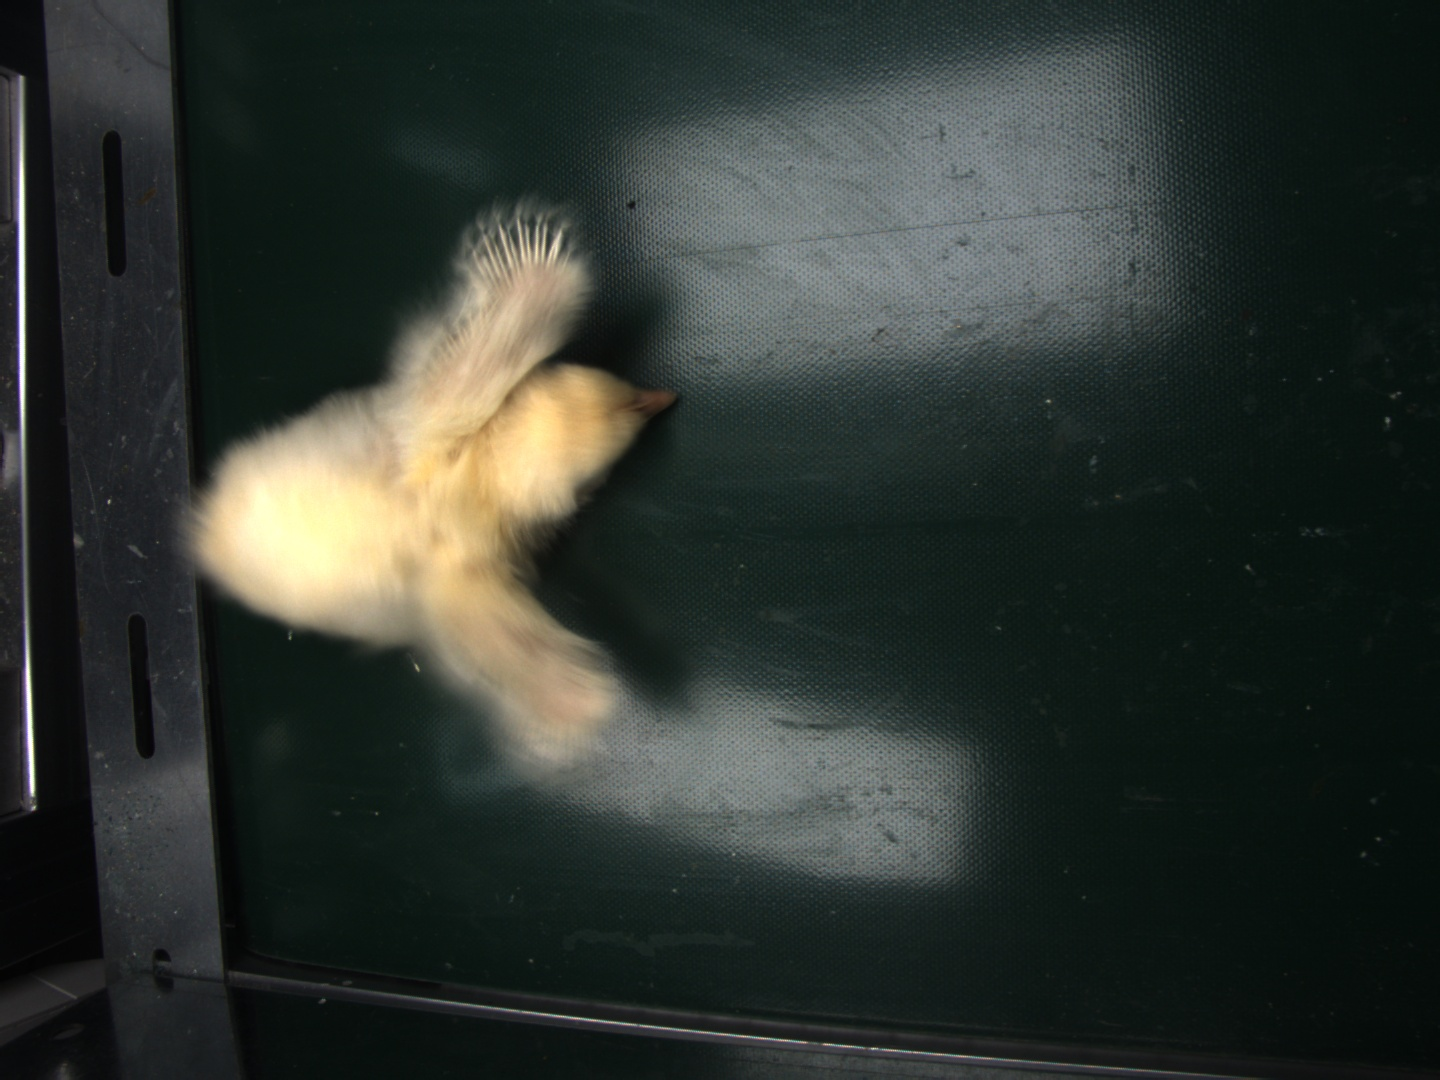male: (468, 216, 568, 290)
